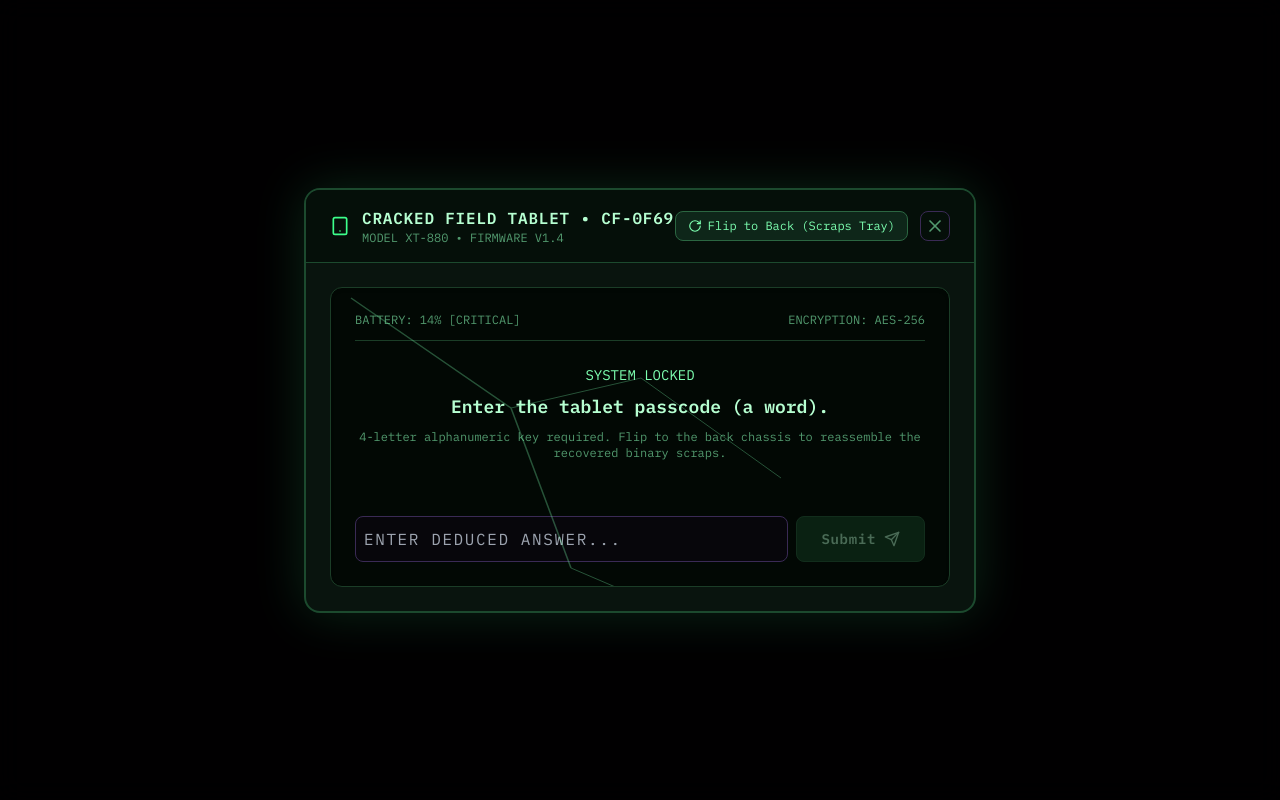
Test: Room 2 (Daniel's Study) Comprehensive Test Suite (50 Tests) › QA-R2-FE-24: test_room2_tablet_modal_copy_button_copies_binary_text
Click the button "Flip to Back (Scraps Tray)" at (791, 226), box [675,210,908,240]
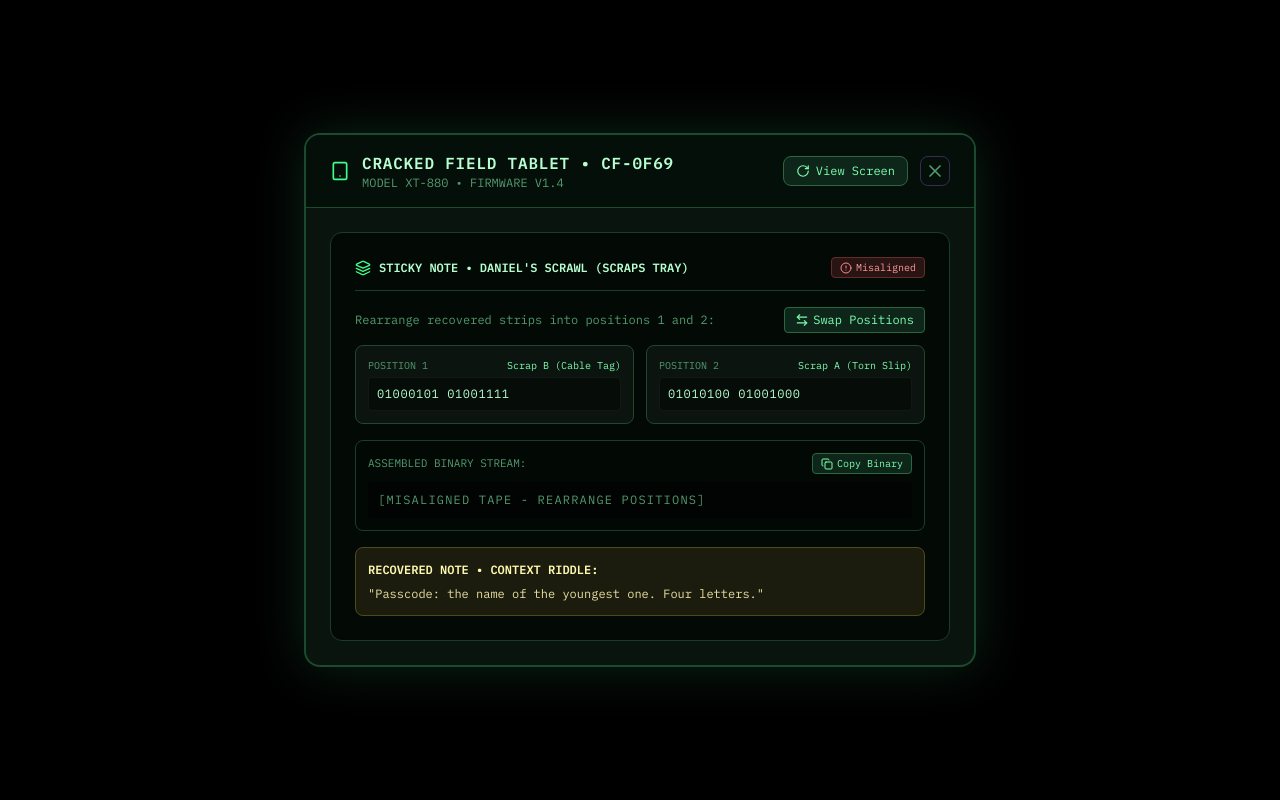
Click the button "Copy Binary" at (862, 464), box [812,453,912,474]
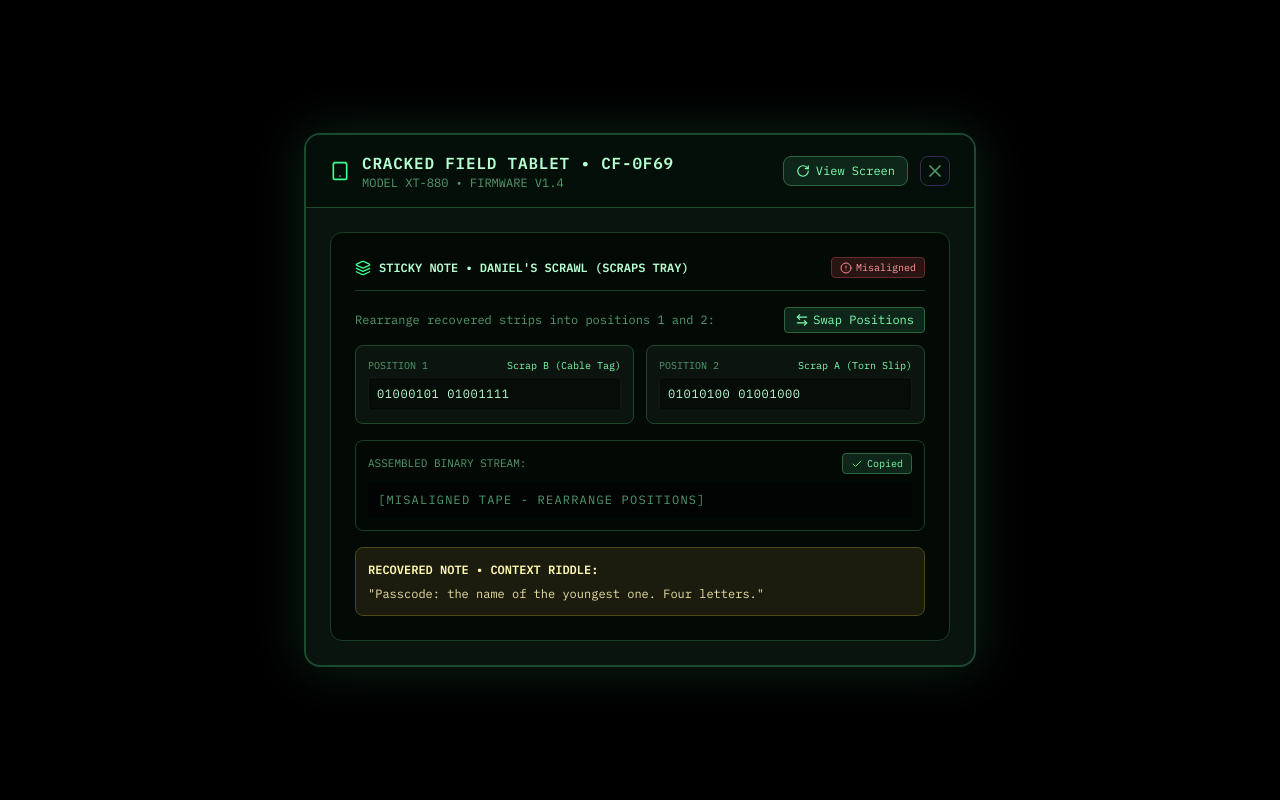
Expected: the text "Copied" is shown, [867,456,903,471]
